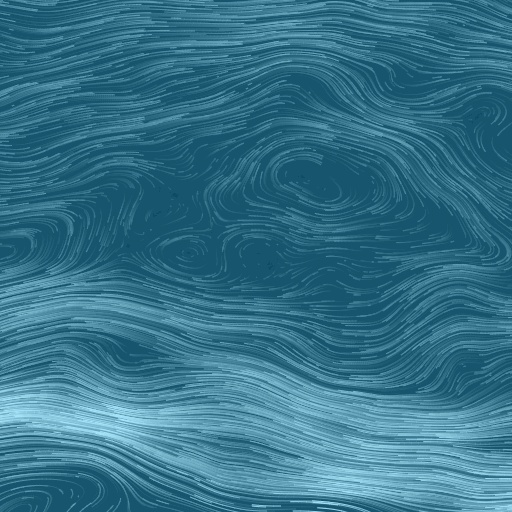eddy: (255, 138, 388, 219), (151, 232, 229, 283)
